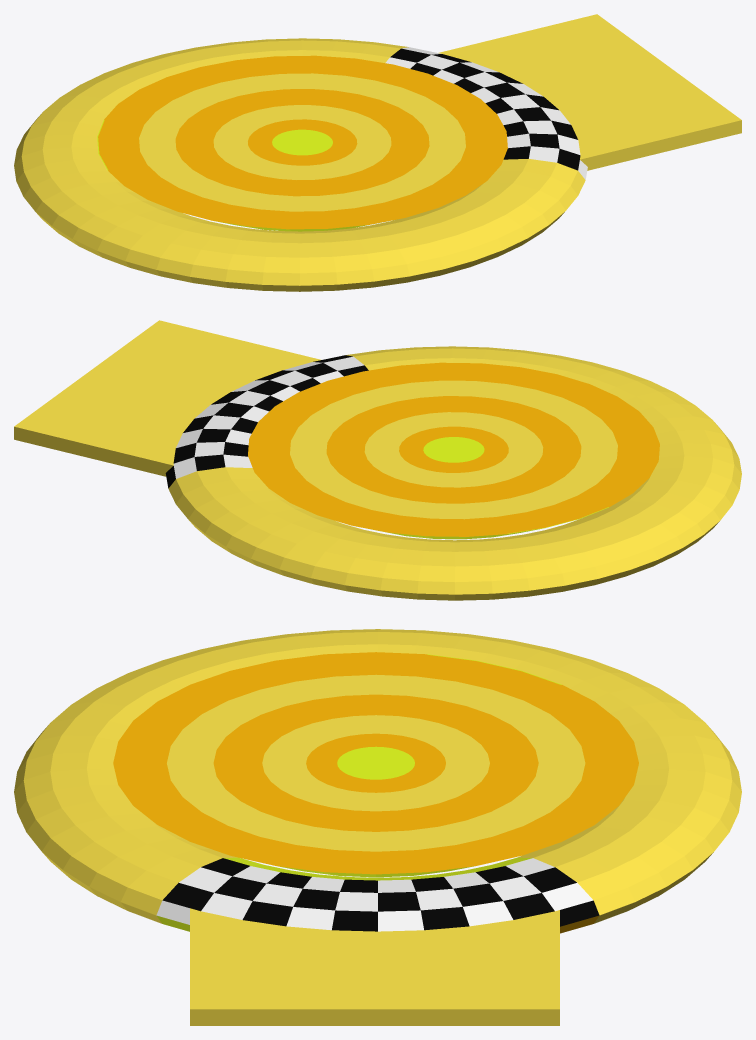
3 views of the same model, one above another, from view 1: azimuth 30°, elevation 25°; view 2: azimuth 150°, elevation 25°; view 3: azimuth 270°, elevation 25° (orthographic). The views are drawn at different scales.
Parts seen in each view (by area): view 1: Cylinder; view 2: Cylinder; view 3: Cylinder.
Boxes of the visible parts, left/top/right/bottom form: Cylinder: left=14, top=14, right=741, bottom=291; Cylinder: left=14, top=320, right=741, bottom=600; Cylinder: left=14, top=629, right=741, bottom=1025.
Bounding box in the file's own units: 1923 × 123 × 1540.
